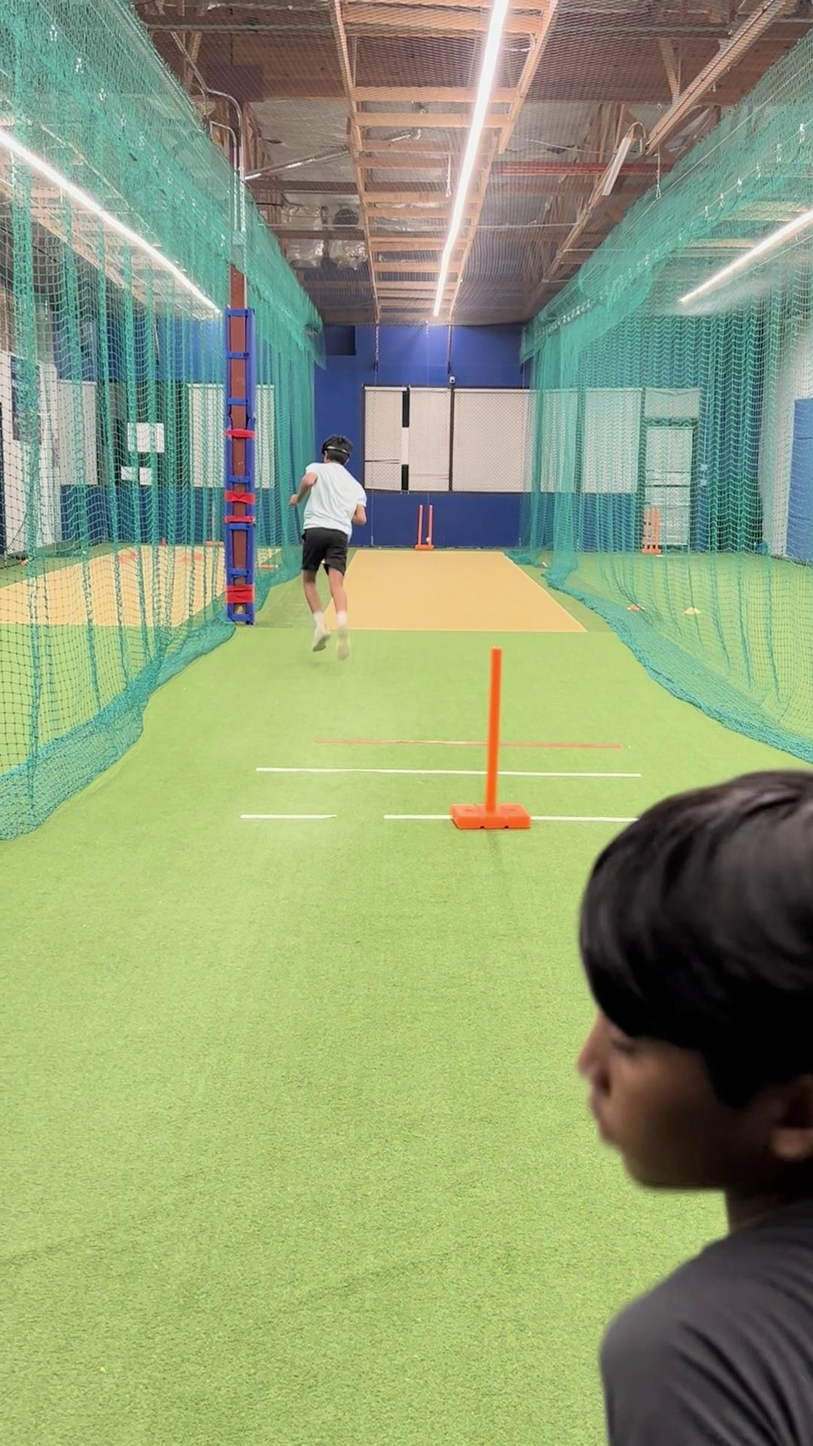ball: (423, 534, 433, 544)
